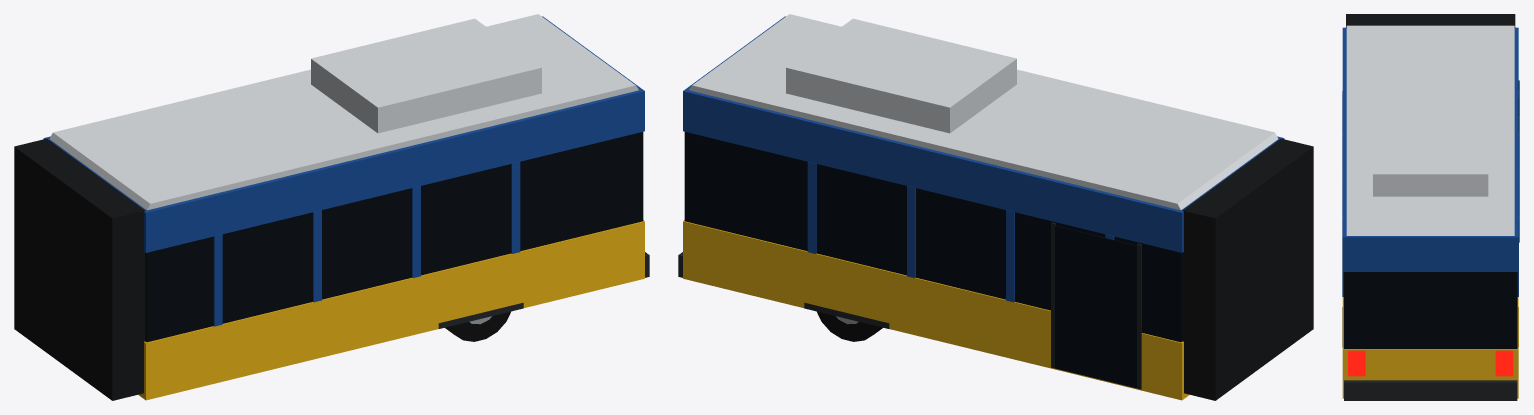
The model's file is bus60r-blue.glb.
3 views of the same model, side by side, from view 1: azimuth 30°, elevation 25°; view 2: azimuth 150°, elevation 25°; view 3: azimuth 270°, elevation 25° (orthographic). The views are drawn at different scales.
Visible parts, largest first — view 1: bus60-rear; view 2: bus60-rear; view 3: bus60-rear.
Part boxes in pixels (<box>): bus60-rear: <box>14,14,649,400</box>; bus60-rear: <box>678,14,1313,400</box>; bus60-rear: <box>1342,14,1519,400</box>.
Bounding box in the file's own units: 7.84 × 3.37 × 2.61.
